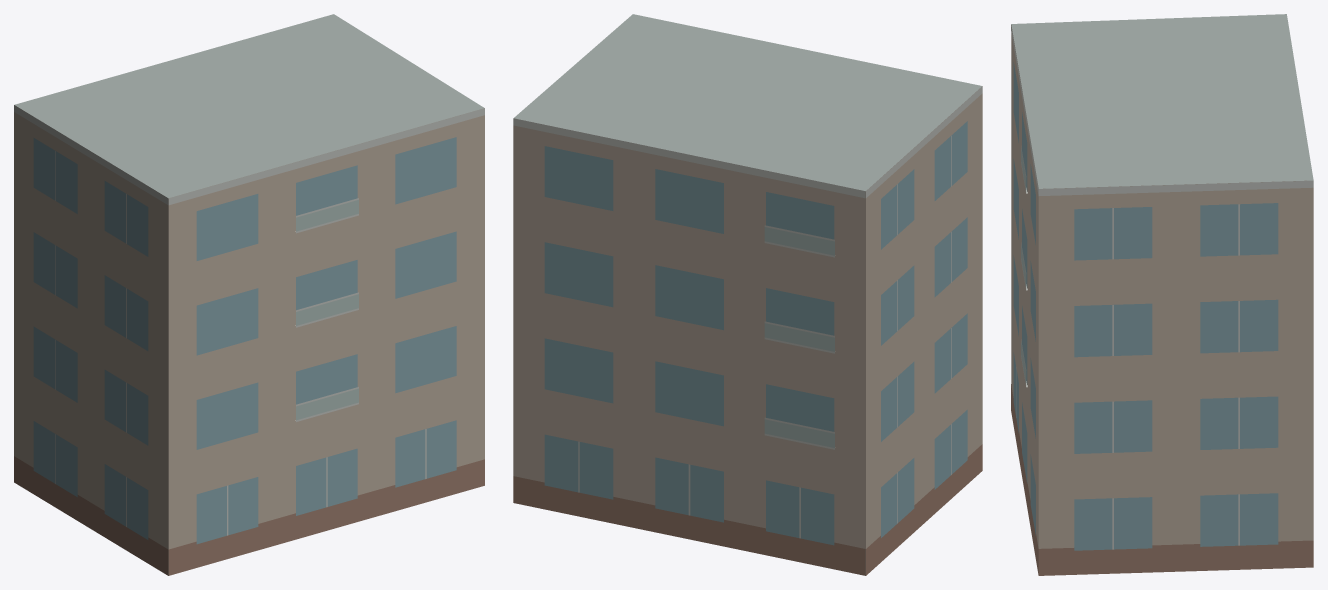
Rendered from survey-upis-32701644.glb.
3 renders of one model, left to right at view 1: azimuth 30°, elevation 25°; view 2: azimuth 150°, elevation 25°; view 3: azimuth 270°, elevation 25°, orthographic. The views are drawn at different scales.
Visible parts, largest first — view 1: survey-upis-32701644.tmp; view 2: survey-upis-32701644.tmp; view 3: survey-upis-32701644.tmp.
Boxes of the visible parts, x1,y1,x2,y2 form: survey-upis-32701644.tmp: (14, 14, 484, 575); survey-upis-32701644.tmp: (513, 14, 982, 575); survey-upis-32701644.tmp: (1011, 14, 1313, 575).
Size of the model in its own units: 12.61 by 13 by 9.22.
